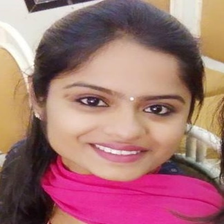no_mask: (52, 46, 187, 178)
